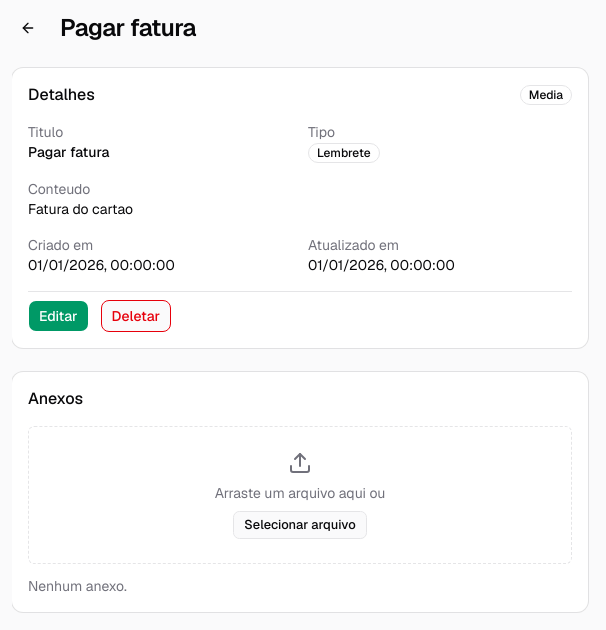
Test case: AnotacaoDetalhePage › exibe botao de confirmacao ao clicar em Deletar
This screenshot has width=606, height=630.
Click the button "Deletar".
click(136, 316)  # box top-left (101, 300), bottom-right (171, 332)
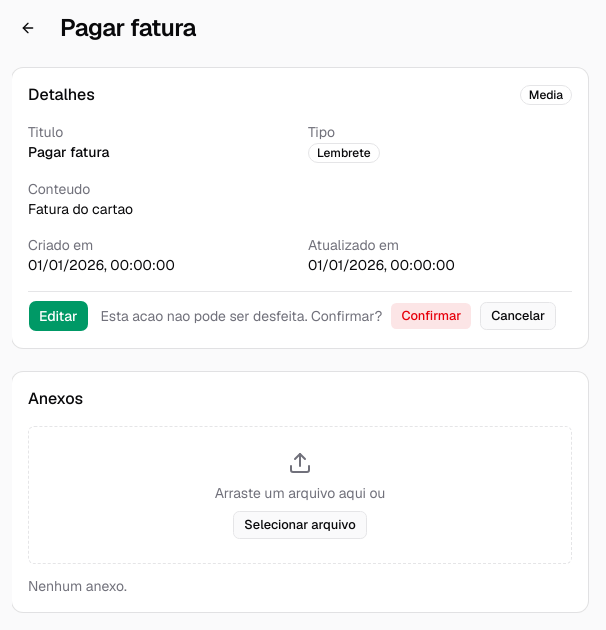
expect the button "Confirmar" is shown: met, box top-left (390, 302), bottom-right (472, 330)
expect the button "Cancelar" is shown: met, box top-left (480, 302), bottom-right (556, 330)
